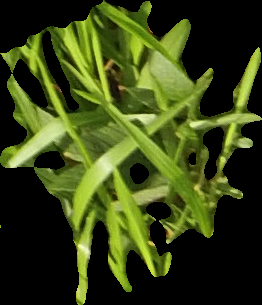grass: (1, 1, 261, 304)
